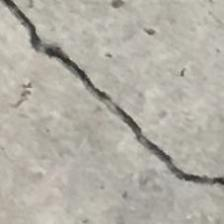Crack: (7, 0, 224, 207)
